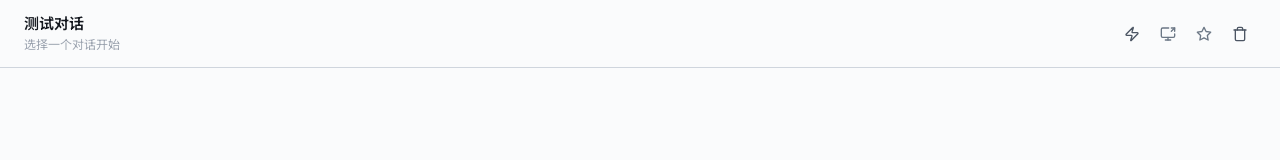
Test case: ChatHeader 标题行内改名（显式保存契约） › 保存失败可见：编辑态保持 + 错误文案在场 + 标题不变 + 可重试
The width and height of the screenshot is (1280, 160).
Double-click the heading with class "header-title" at (54, 24), box [24,14,84,34]
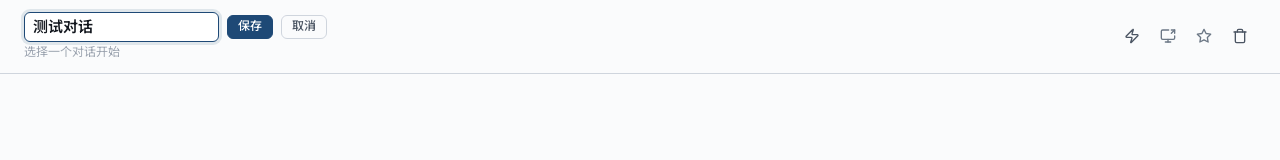
Replace the text in the field with class "header-edit-input" with "会失败的改名" at (122, 27), box [24,12,219,42]
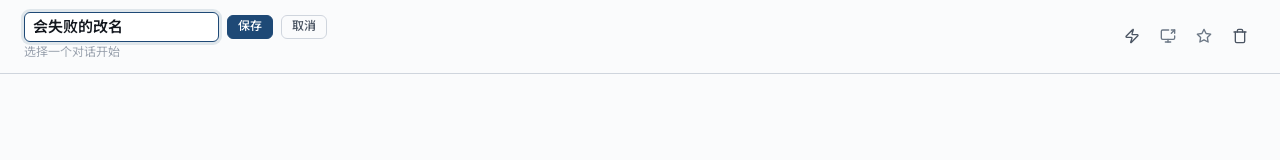
Click the button with class "is-save" at (250, 27), box [227,15,273,39]
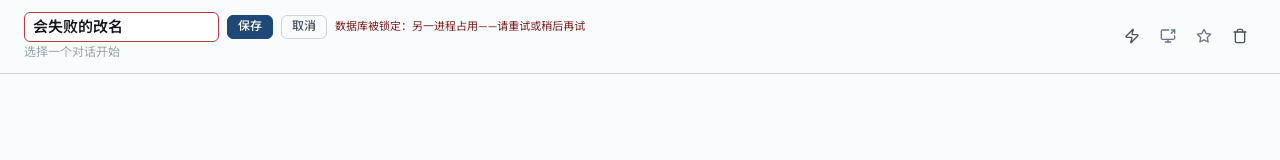
Result: the element with class "header-edit-row" is shown at [24,12,585,42]
Result: the text with class "title-edit-error" shows "数据库被锁定" at [335,19,585,33]
Click the button with class "is-save" at (250, 27), box [227,15,273,39]
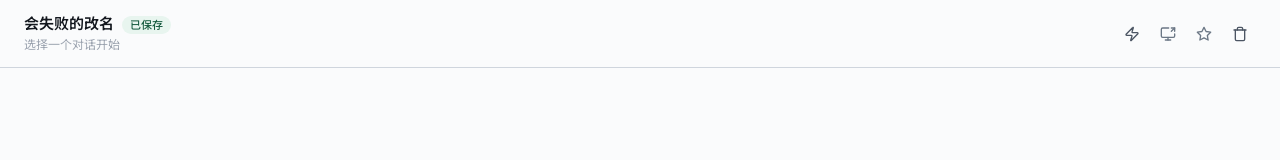
Result: the text "会失败的改名" is shown at [24,14,114,36]
